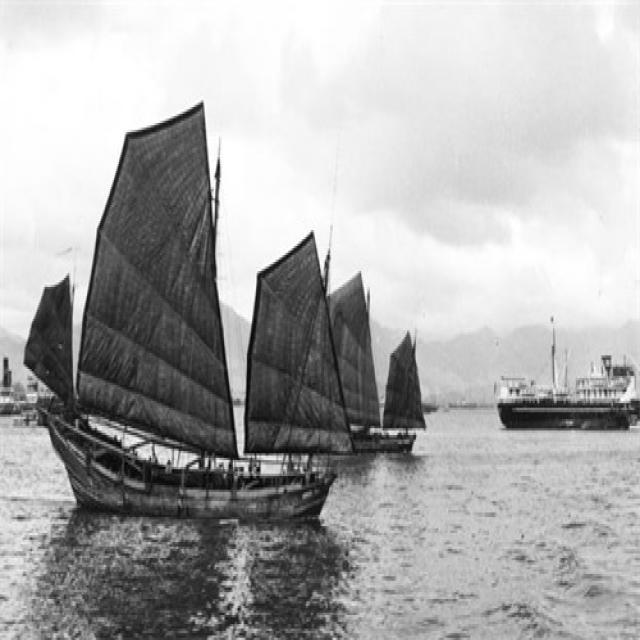Ship: (28, 100, 338, 521), (302, 282, 432, 457)
